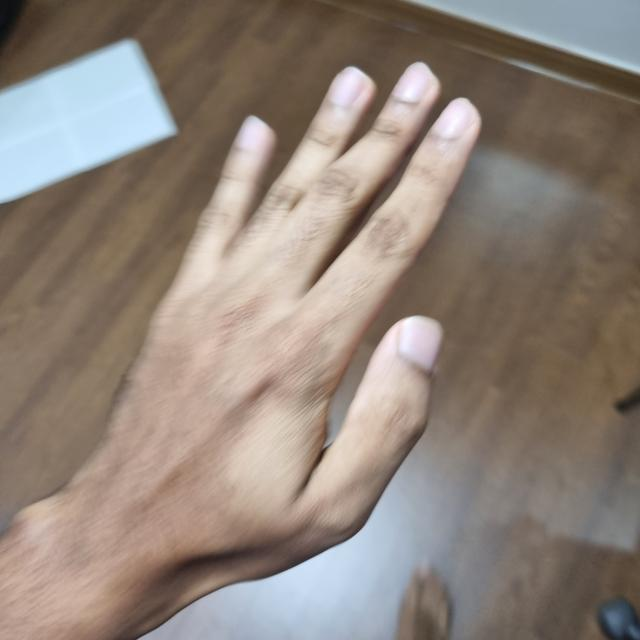Paper: (105, 68, 474, 582)
